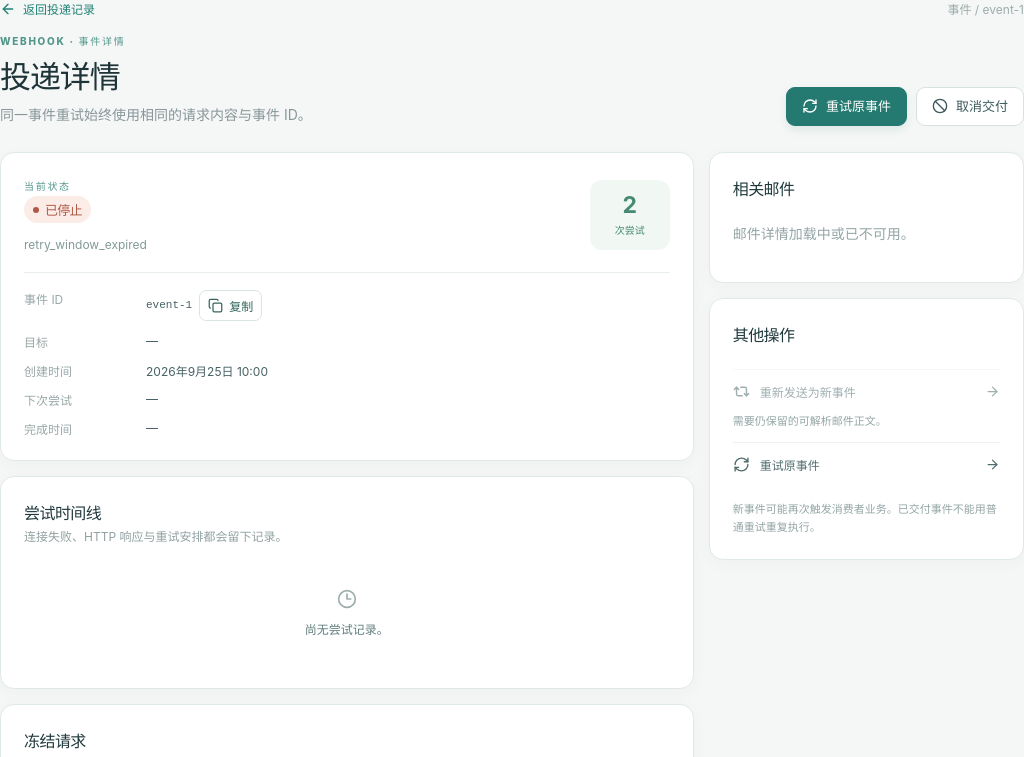
warns before cancelling that an owner-resolved exception is later cleaned by the resolved retention period
Click the button "取消交付".
click(970, 106)  # box [916, 87, 1023, 126]
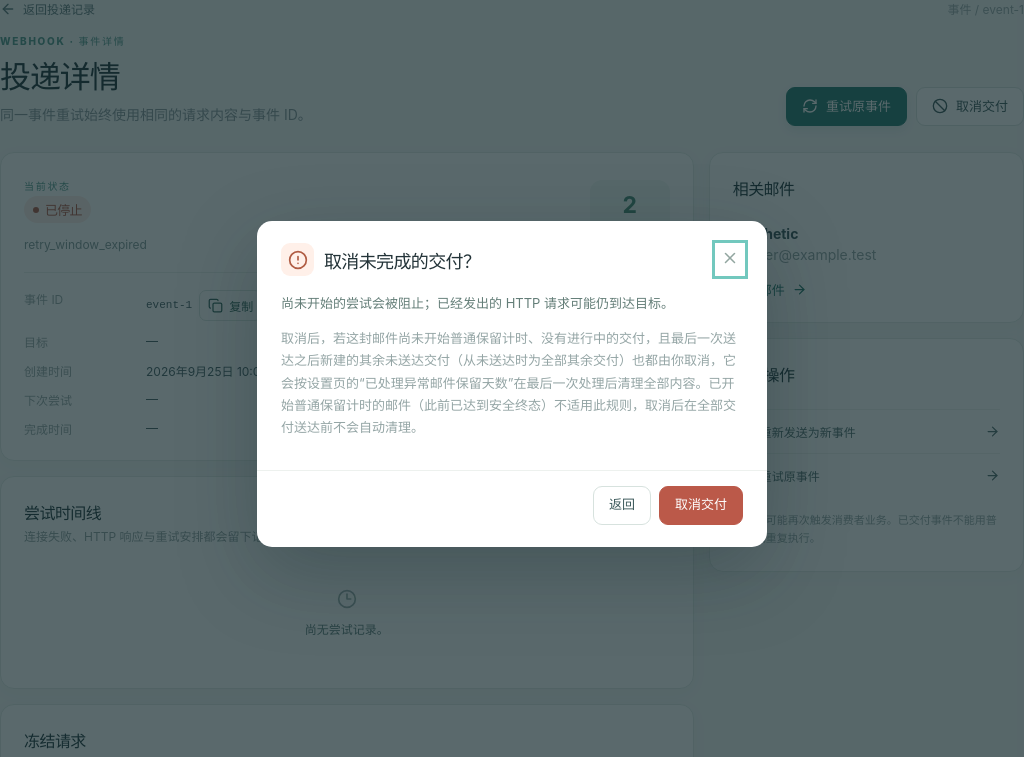
Result: the text "已处理异常邮件保留天数" shows "最后一次送达之后新建的其余未送达交付（从未送达时为全部其余交付）也都由你取消" at [281, 330, 736, 435]
Result: the text "已处理异常邮件保留天数" shows "清理全部内容" at [281, 330, 736, 435]
Result: the text "已处理异常邮件保留天数" shows "若这封邮件尚未开始普通保留计时" at [281, 330, 736, 435]
